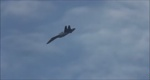maybay_muctieu: (44, 25, 77, 47)
